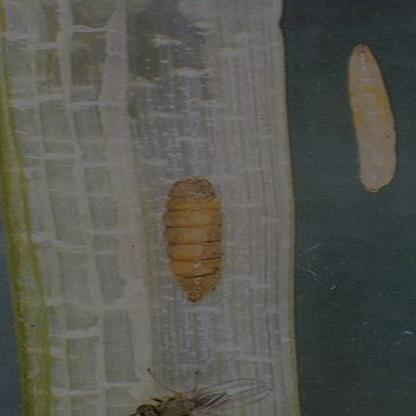whorl-maggot: (152, 171, 254, 307), (331, 35, 416, 198)
